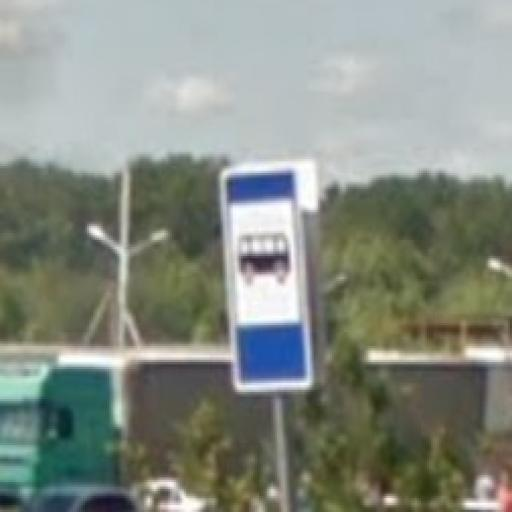traffic_sign: (220, 165, 315, 395)
